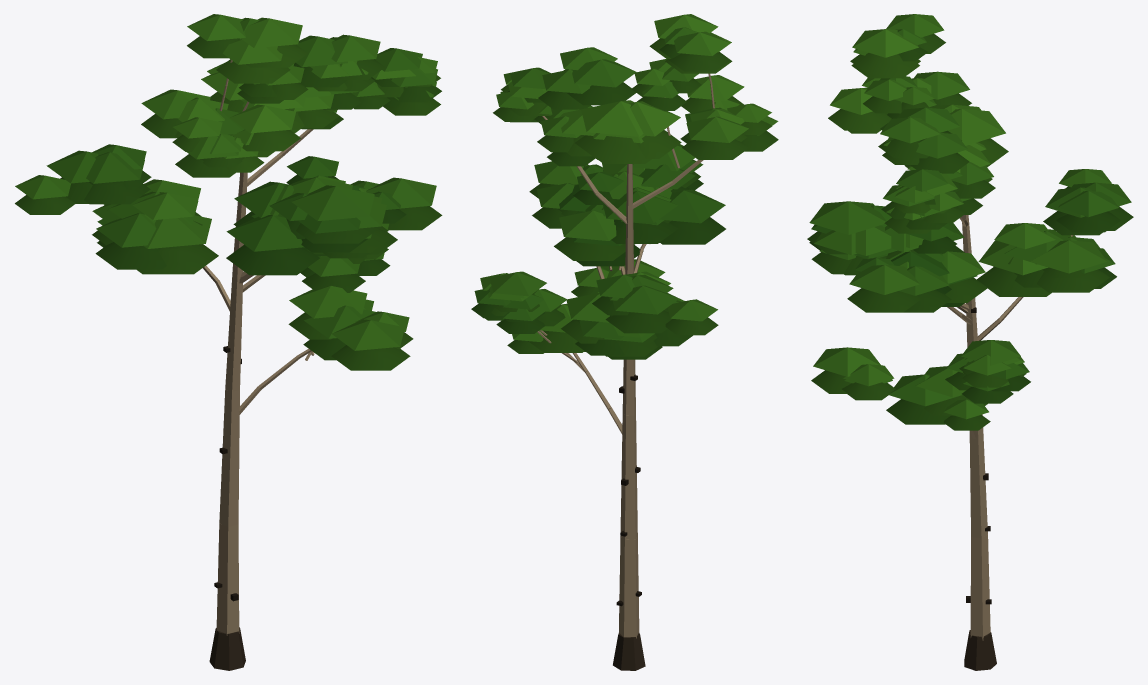
Rendered from tree_birch_1_mid.glb.
3 views of the same model, side by side, from view 1: azimuth 30°, elevation 25°; view 2: azimuth 150°, elevation 25°; view 3: azimuth 270°, elevation 25° (orthographic). The views are drawn at different scales.
Parts seen in each view (by area): view 1: leaf, wood; view 2: leaf, wood; view 3: leaf, wood.
Boxes of the visible parts, bbox=[...] form: leaf: bbox=[15, 14, 442, 370]; wood: bbox=[203, 60, 337, 670]; leaf: bbox=[471, 14, 778, 359]; wood: bbox=[537, 73, 714, 670]; leaf: bbox=[807, 14, 1133, 430]; wood: bbox=[947, 215, 1073, 670].
Size of the model in its own units: 5.96 by 12.07 by 5.67.
